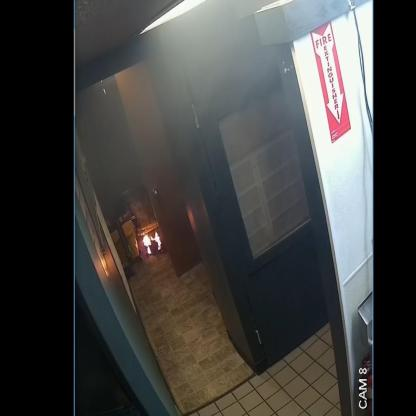fire: (142, 234, 152, 254), (151, 231, 161, 250)
